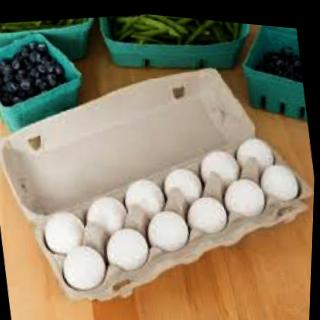Egg: (57, 243, 115, 297), (116, 167, 174, 221), (226, 126, 284, 180), (141, 204, 198, 258), (190, 142, 247, 196), (35, 204, 93, 257), (82, 189, 140, 242), (176, 191, 234, 244), (154, 161, 212, 214), (221, 169, 279, 222), (250, 154, 308, 207), (95, 229, 152, 282)
